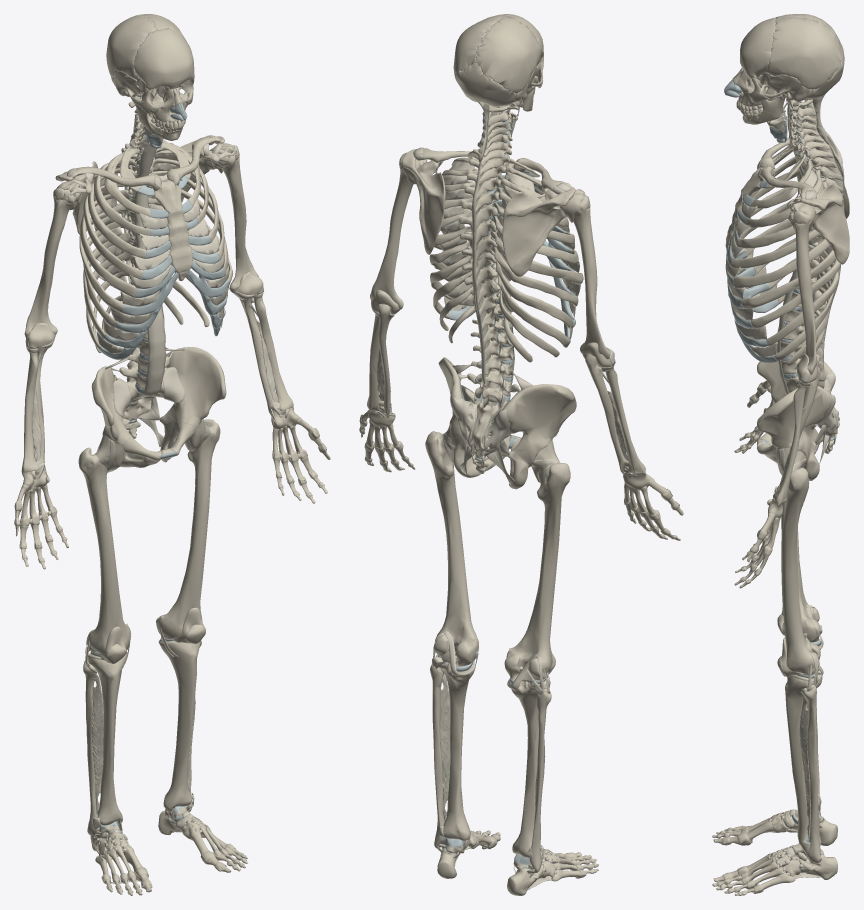
Rendered from skeletal.glb.
The picture shows the model from 3 angles, left to right: view 1: azimuth 30°, elevation 25°; view 2: azimuth 150°, elevation 25°; view 3: azimuth 270°, elevation 25°; orthographic projection. The views are drawn at different scales.
Parts seen in each view (by area): view 1: za-ebb15e1f4911a807, za-5904807f8c7d2c23, za-b9d73c3c84a7f62d, za-28f17798255acd91, za-8e8f88fe40d45d19, za-adbd394e788929f0, za-99bbd1fad9bf57a1, za-a3e8f6d97e3a95dc, za-43545666d4943509, za-bcf4932a02405a07, za-6196f4850bc8e322, za-392caa1c00b14e39 (+18 smaller); view 2: za-b9d73c3c84a7f62d, za-ebb15e1f4911a807, za-43545666d4943509, za-cdbfb237d6bba5c9, za-6196f4850bc8e322, za-28f17798255acd91, za-adbd394e788929f0, za-82c423a2d9629a59, za-bcf4932a02405a07, za-392caa1c00b14e39, za-3d9ccdd91ac3b7d7, za-5904807f8c7d2c23 (+21 smaller); view 3: za-adef6b509aa6600e, za-b9d73c3c84a7f62d, za-5904807f8c7d2c23, za-28f17798255acd91, za-392caa1c00b14e39, za-82c423a2d9629a59, za-6c8b3ad8730200ce, za-be120fd8fdab2899, za-8e8f88fe40d45d19, za-5e0d97935f00d1db, za-43545666d4943509, za-60e1d0917fd5f7bf (+28 smaller).
Part boxes in pixels (x1,y1,x2,y2): za-ebb15e1f4911a807: [78, 447, 130, 654]; za-5904807f8c7d2c23: [159, 347, 226, 462]; za-b9d73c3c84a7f62d: [156, 419, 220, 638]; za-28f17798255acd91: [158, 640, 200, 811]; za-8e8f88fe40d45d19: [134, 28, 194, 91]; za-adbd394e788929f0: [88, 652, 127, 825]; za-99bbd1fad9bf57a1: [96, 212, 171, 353]; za-a3e8f6d97e3a95dc: [134, 113, 165, 397]; za-43545666d4943509: [91, 366, 161, 467]; za-bcf4932a02405a07: [24, 187, 76, 337]; za-6196f4850bc8e322: [106, 15, 158, 79]; za-392caa1c00b14e39: [223, 145, 258, 292]; za-b9d73c3c84a7f62d: [425, 431, 478, 661]; za-ebb15e1f4911a807: [506, 462, 570, 677]; za-43545666d4943509: [502, 384, 576, 489]; za-cdbfb237d6bba5c9: [502, 187, 575, 276]; za-6196f4850bc8e322: [476, 16, 541, 93]; za-28f17798255acd91: [439, 659, 475, 840]; za-adbd394e788929f0: [507, 679, 550, 857]; za-82c423a2d9629a59: [401, 149, 445, 254]; za-bcf4932a02405a07: [573, 195, 610, 359]; za-392caa1c00b14e39: [370, 152, 413, 311]; za-3d9ccdd91ac3b7d7: [440, 162, 474, 306]; za-5904807f8c7d2c23: [438, 357, 509, 477]; za-adef6b509aa6600e: [765, 17, 842, 89]; za-b9d73c3c84a7f62d: [781, 467, 817, 673]; za-5904807f8c7d2c23: [757, 386, 832, 480]; za-28f17798255acd91: [785, 675, 821, 845]; za-392caa1c00b14e39: [788, 209, 817, 374]; za-82c423a2d9629a59: [787, 183, 849, 264]; za-6c8b3ad8730200ce: [803, 686, 820, 863]; za-be120fd8fdab2899: [726, 202, 777, 356]; za-8e8f88fe40d45d19: [740, 17, 776, 78]; za-5e0d97935f00d1db: [773, 383, 809, 506]; za-43545666d4943509: [757, 352, 832, 453]; za-60e1d0917fd5f7bf: [741, 249, 836, 308].
Size of the model in its own units: 0.6692 by 1.7 by 0.2501.
